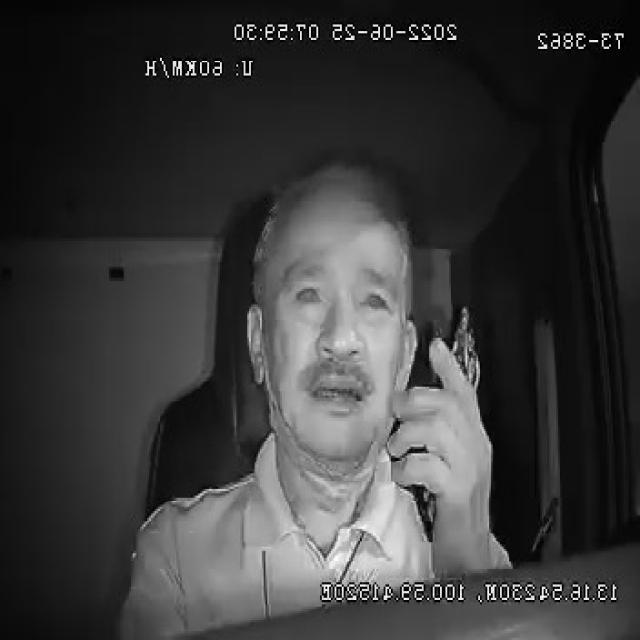phone: (410, 304, 486, 548)
